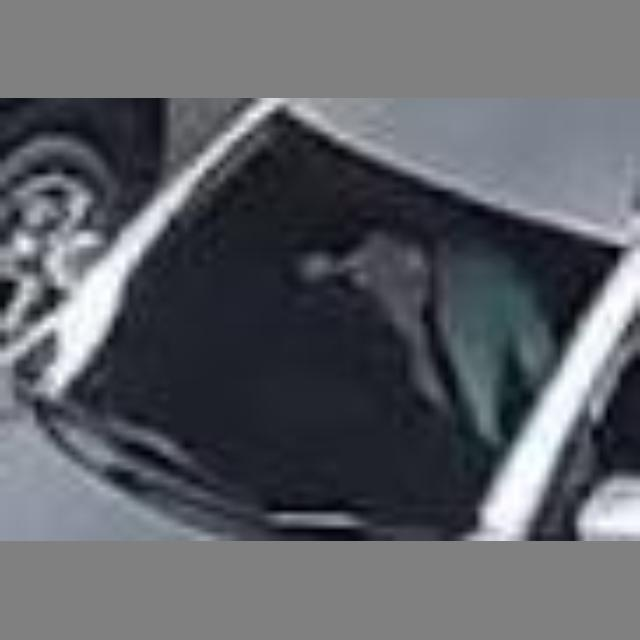pakai: (274, 175, 549, 443)
